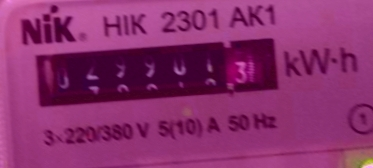0: (51, 62, 71, 90), (169, 48, 187, 78)
1: (200, 45, 215, 74)
2: (80, 54, 100, 82)
3: (230, 58, 249, 85)
9: (110, 52, 128, 80), (141, 51, 156, 79)
screen: (25, 27, 289, 117)
